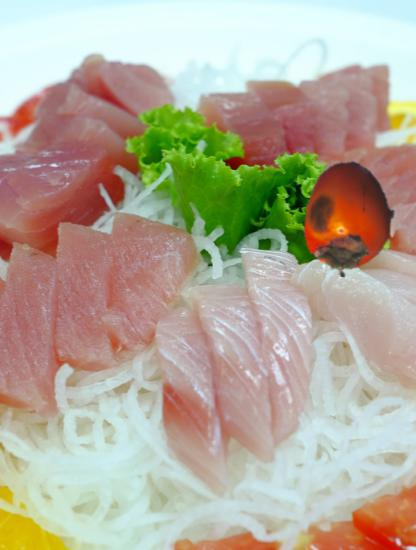Kaki: (291, 161, 408, 278)
